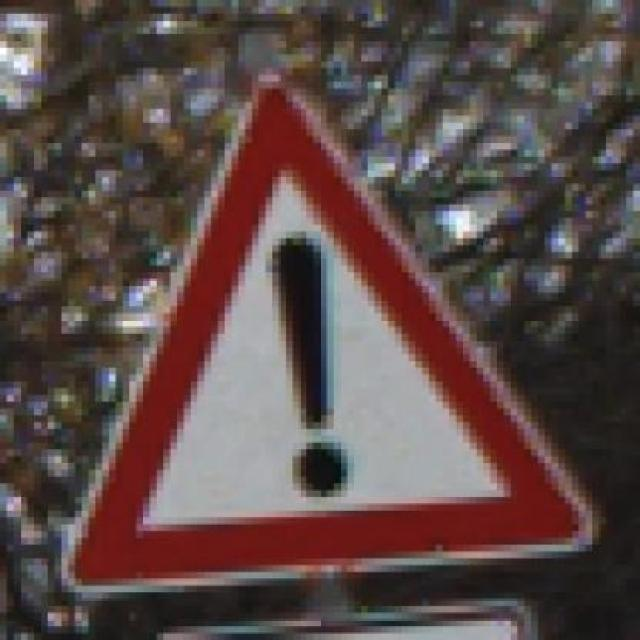Attention Please-: (34, 76, 606, 606)
